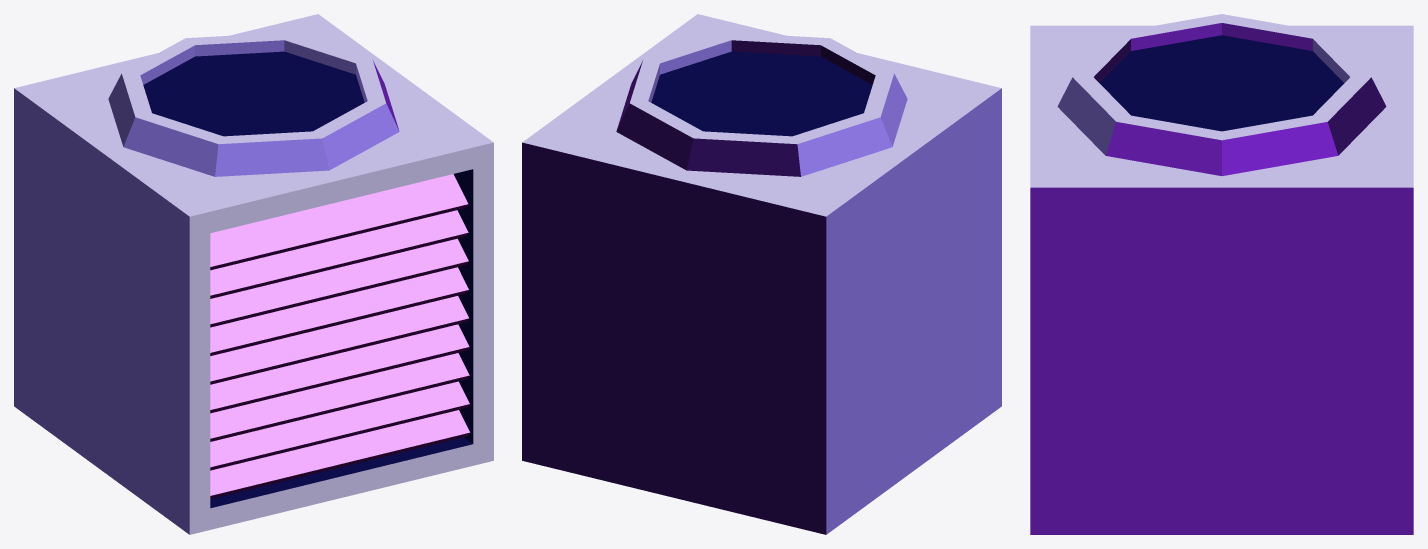
Rendered from 3d_ventilation_cube.fbx.
3 renders of one model, left to right at view 1: azimuth 30°, elevation 25°; view 2: azimuth 150°, elevation 25°; view 3: azimuth 270°, elevation 25°, orthographic. The views are drawn at different scales.
Visible parts, largest first — view 1: GEO_Ventilation_Cube; view 2: GEO_Ventilation_Cube; view 3: GEO_Ventilation_Cube.
Part boxes in pixels (<box>): GEO_Ventilation_Cube: <box>14,14,493,534</box>; GEO_Ventilation_Cube: <box>522,14,1001,534</box>; GEO_Ventilation_Cube: <box>1030,14,1413,534</box>.
Bounding box in the file's own units: 1 × 1 × 1.09.
